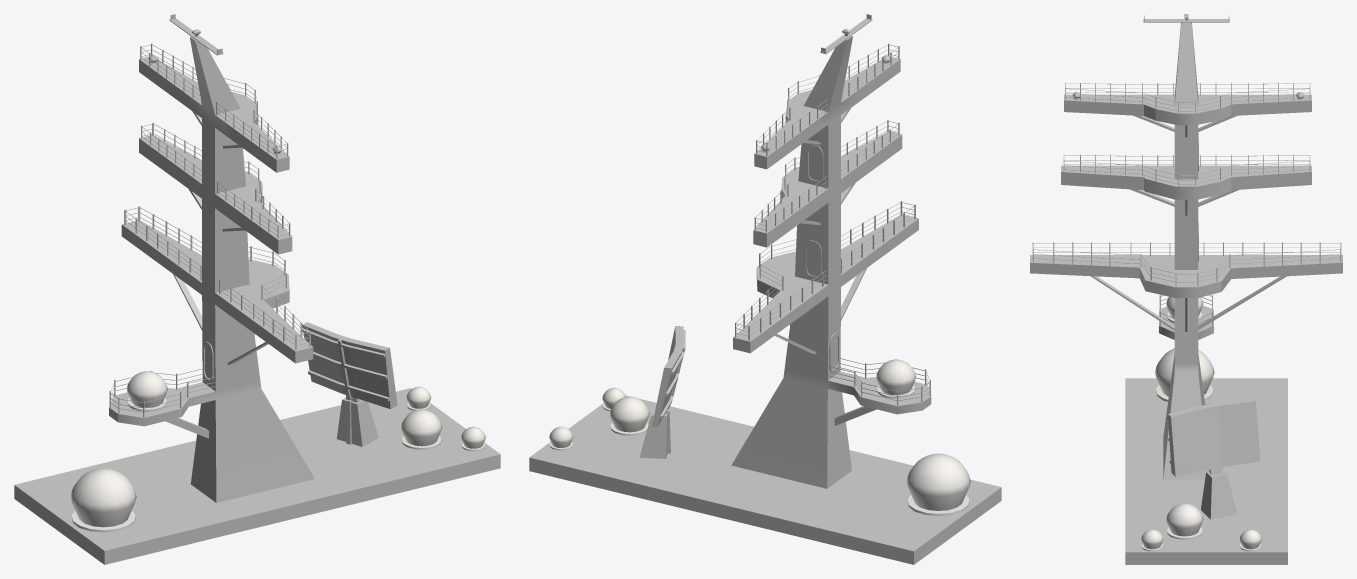
The model's file is shipdetail_final.fbx.
The picture shows the model from 3 angles, left to right: view 1: azimuth 30°, elevation 25°; view 2: azimuth 150°, elevation 25°; view 3: azimuth 270°, elevation 25°; orthographic projection. The views are drawn at different scales.
Visible parts, largest first — view 1: detail, radarthings; view 2: detail, radarthings; view 3: detail, radarthings.
Boxes of the visible parts, bbox=[...] form: detail: bbox=[14, 14, 500, 564]; radarthings: bbox=[70, 371, 485, 532]; detail: bbox=[529, 14, 1001, 564]; radarthings: bbox=[549, 359, 970, 516]; detail: bbox=[1030, 14, 1342, 564]; radarthings: bbox=[1141, 296, 1261, 551].
Bounding box in the file's own units: 9376 × 10839 × 7119.
